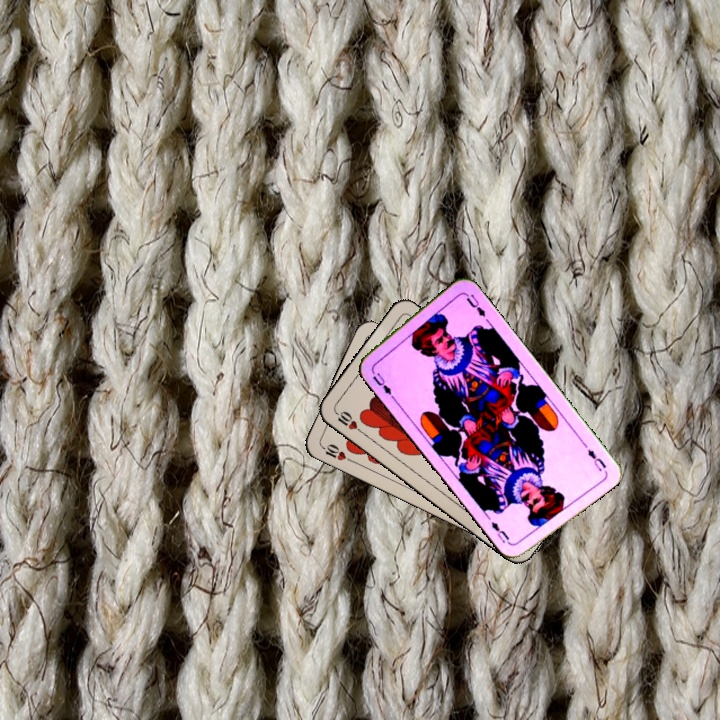EU: (368, 369, 396, 400), (584, 445, 609, 474)
H10: (332, 407, 367, 437), (317, 440, 355, 464)
